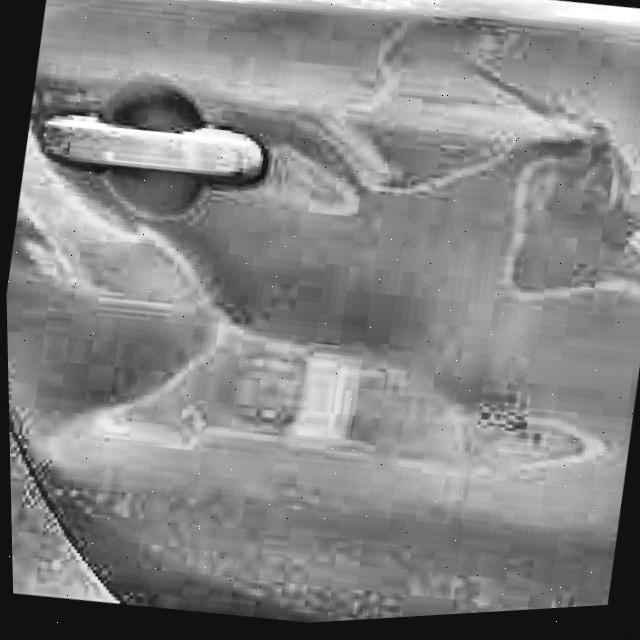door_dent: (76, 225, 639, 531), (460, 93, 640, 324), (250, 83, 412, 242)
